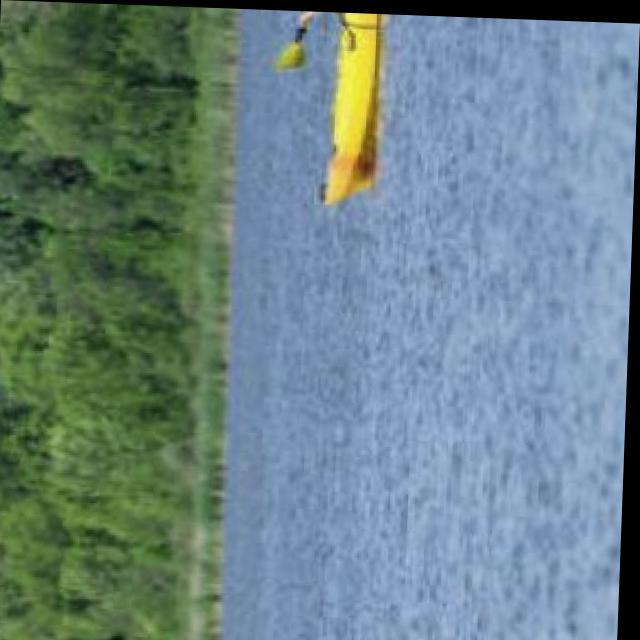kayak: (321, 10, 378, 203)
